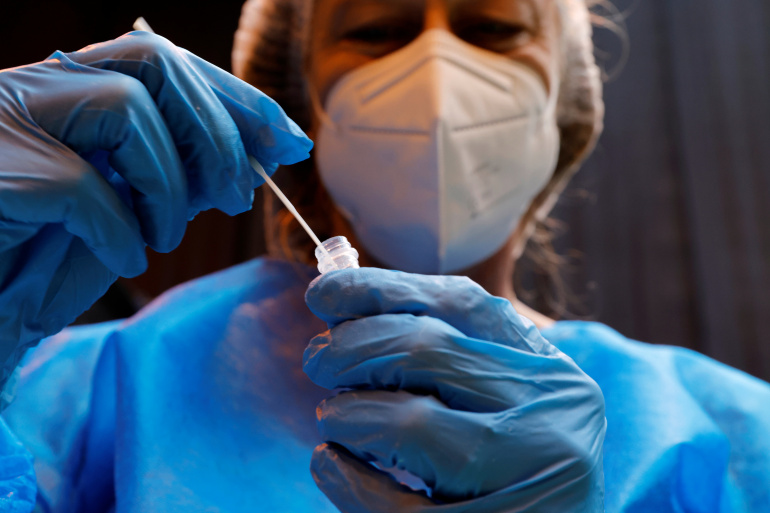Gloves: (1, 28, 317, 399), (297, 257, 611, 513)
with_mask: (317, 2, 559, 281)
